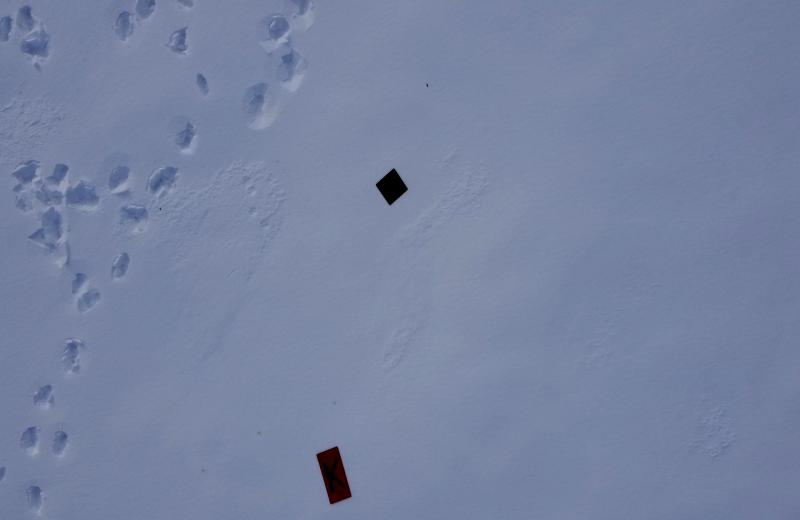Rectangle: (314, 446, 352, 506)
Square: (375, 167, 408, 206)
